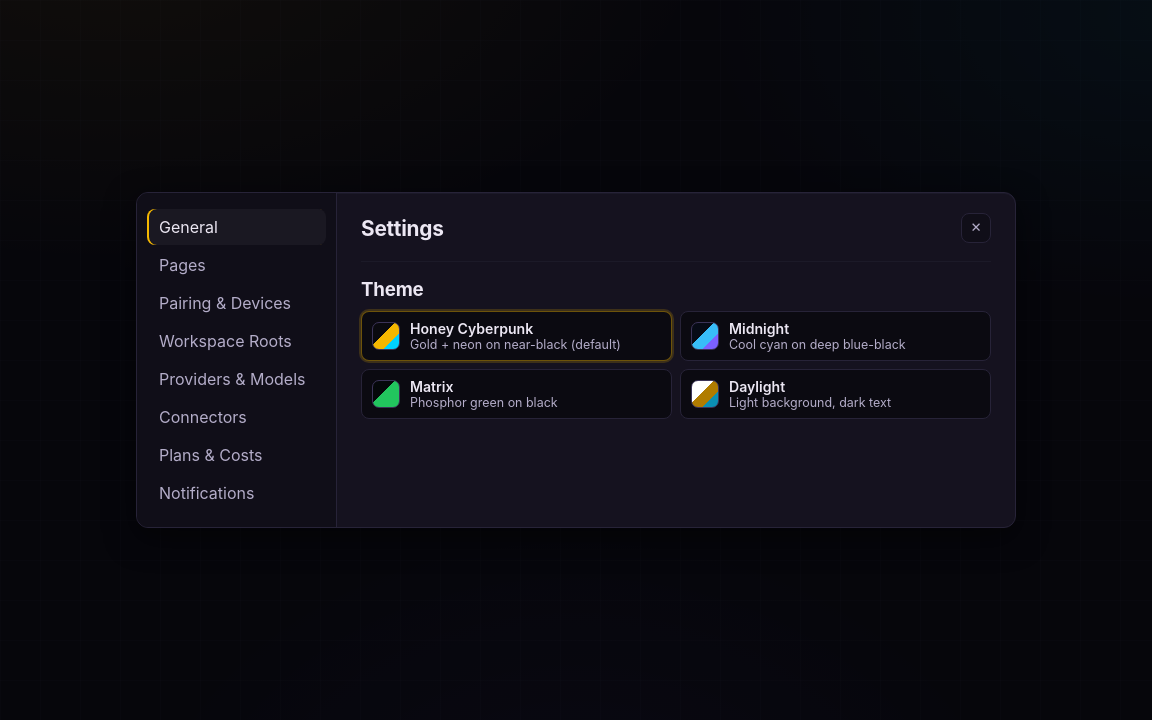
it: SettingsModal › reaches the Pairing & Devices section (device pairing)
Click the button "Pairing & Devices".
click(236, 303)  # box [147, 285, 326, 321]
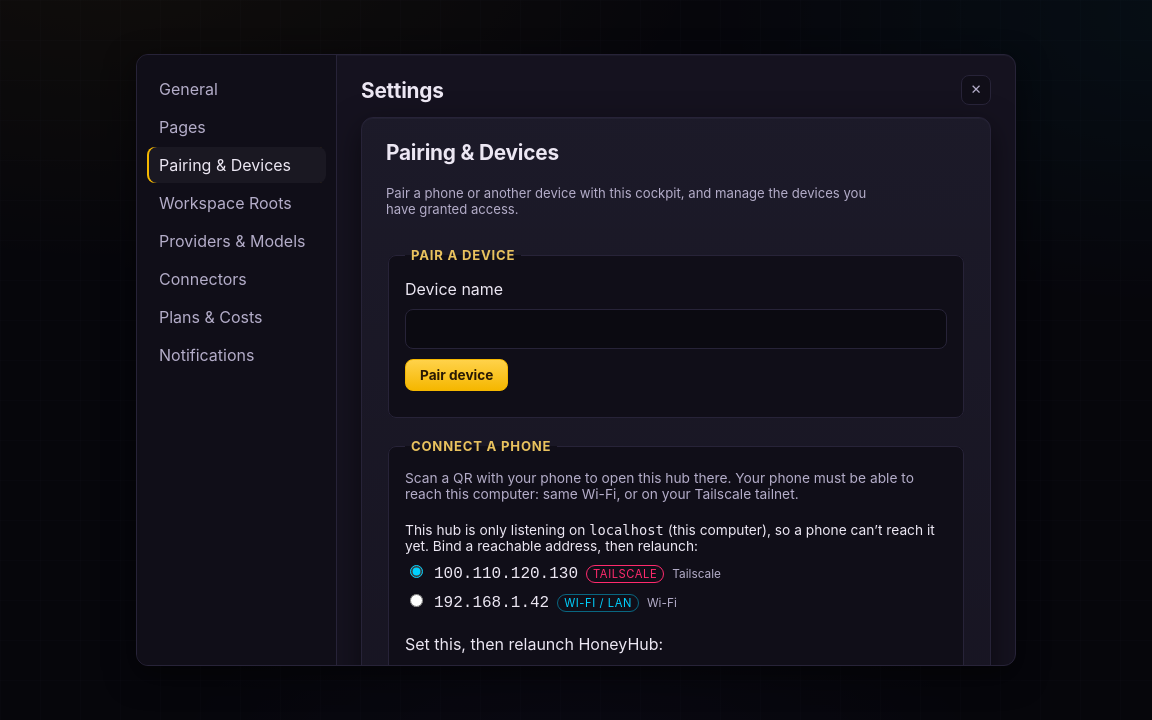
Expected: the field labelled "Device name" is shown, [405, 309, 947, 349]
